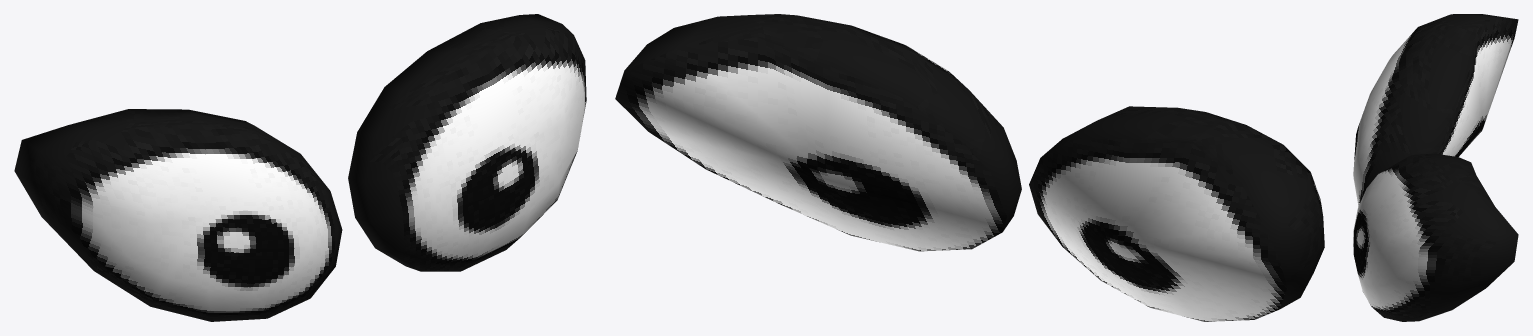
File: m_e_gamnyeong.FBX
3 views of the same model, side by side, from view 1: azimuth 30°, elevation 25°; view 2: azimuth 150°, elevation 25°; view 3: azimuth 270°, elevation 25° (orthographic). The views are drawn at different scales.
Visible parts, largest first — view 1: Object01; view 2: Object01; view 3: Object01.
Boxes of the visible parts, box(x1,y1,x2,y2) form: Object01: box(14, 14, 586, 321); Object01: box(615, 14, 1324, 321); Object01: box(1353, 14, 1518, 321).
Size of the model in its own units: 5.61 by 1.86 by 1.74.
